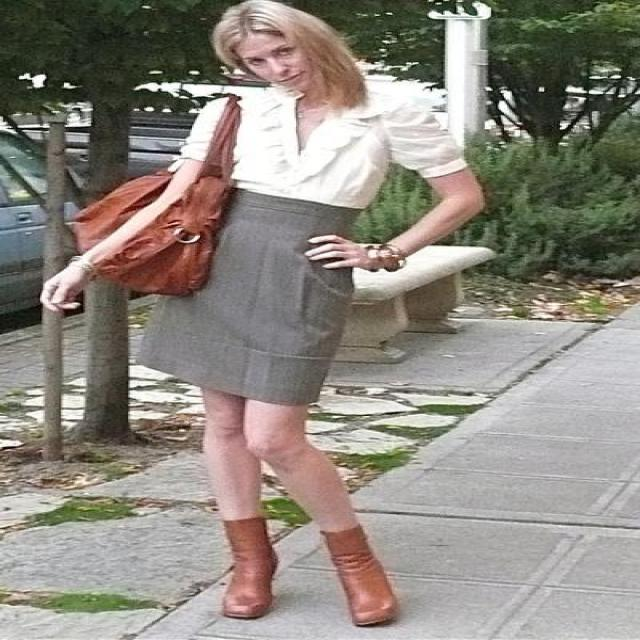bag: (77, 115, 248, 304)
shirt: (186, 76, 467, 208)
shoe: (218, 513, 403, 626)
skirt: (134, 192, 363, 407)
